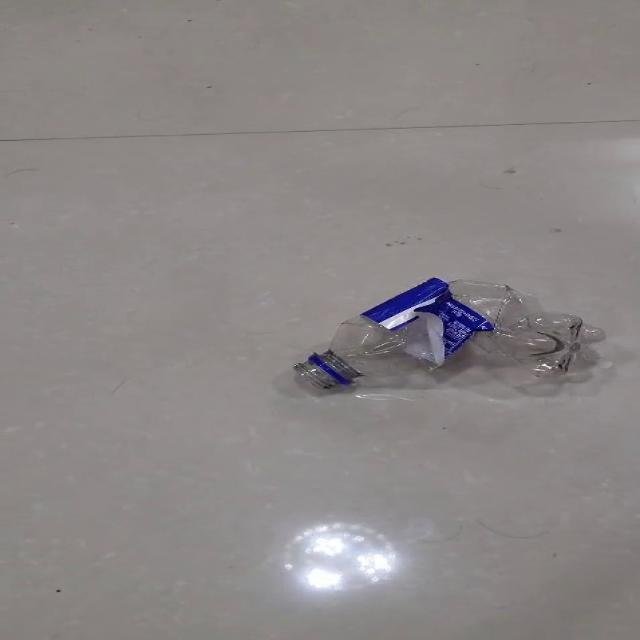plastic: (292, 276, 604, 393)
